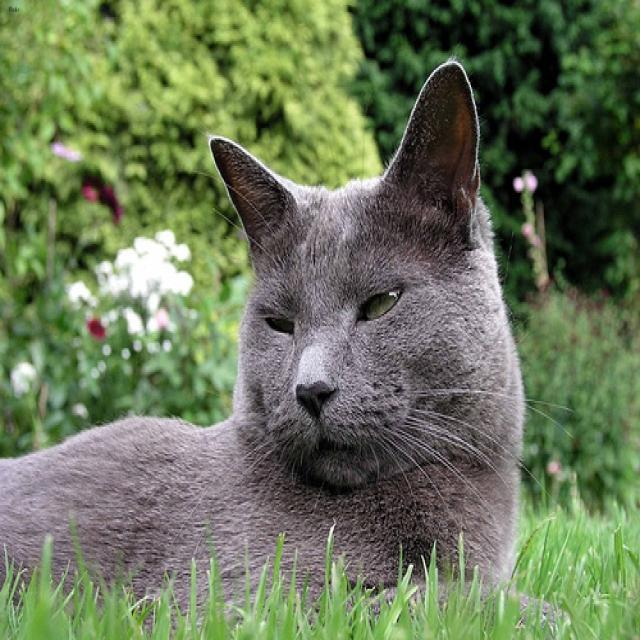Russian_Blue: (209, 58, 479, 481)
